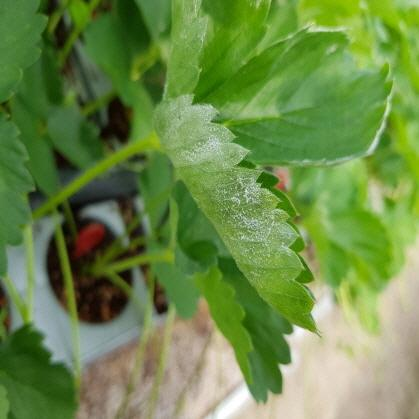Powdery Mildew Leaf: (151, 92, 322, 337), (196, 21, 394, 167), (161, 0, 271, 103)
